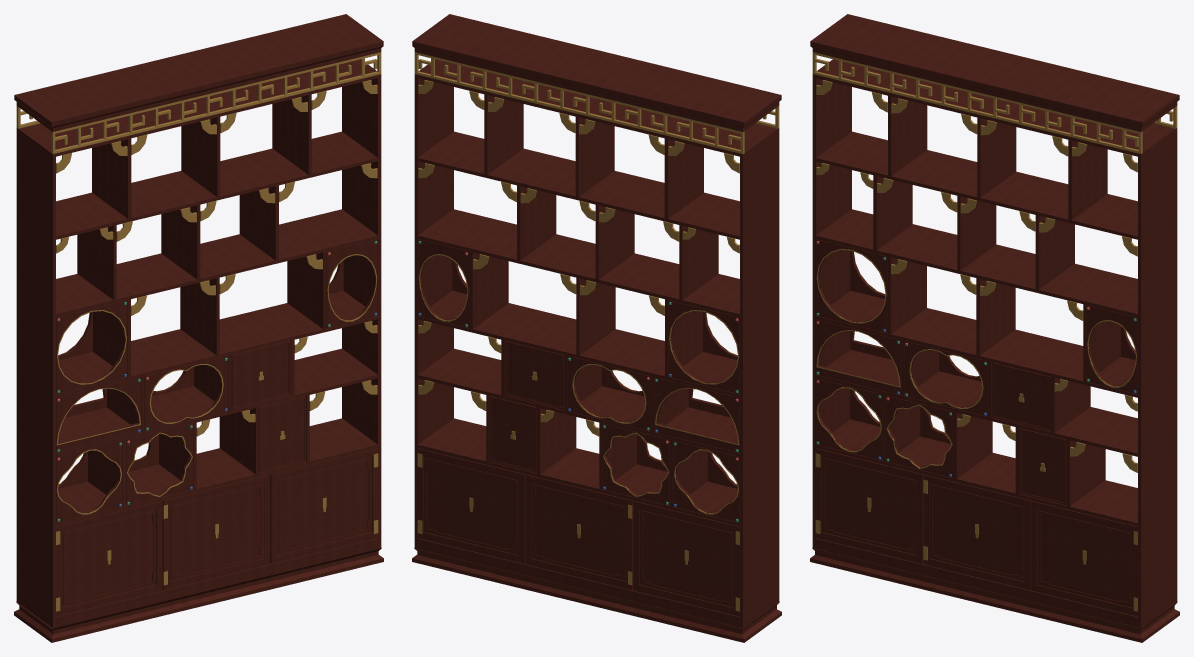
The model's file is shijinge-v1-d.glb.
3 renders of one model, left to right at view 1: azimuth 30°, elevation 25°; view 2: azimuth 150°, elevation 25°; view 3: azimuth 330°, elevation 25°, orthographic.
Parts seen in each view (by area): view 1: shijinge_d_wood, shijinge_d_side, shijinge_d_gold; view 2: shijinge_d_wood, shijinge_d_side, shijinge_d_gold; view 3: shijinge_d_wood, shijinge_d_side, shijinge_d_gold.
Part boxes in pixels (left/top/right/bottom): shijinge_d_wood: left=14, top=14, right=383, bottom=642; shijinge_d_side: left=18, top=132, right=51, bottom=620; shijinge_d_gold: left=16, top=52, right=381, bottom=611; shijinge_d_wood: left=412, top=14, right=781, bottom=642; shijinge_d_side: left=744, top=132, right=777, bottom=620; shijinge_d_gold: left=414, top=52, right=779, bottom=611; shijinge_d_wood: left=810, top=14, right=1179, bottom=642; shijinge_d_side: left=1142, top=132, right=1175, bottom=620; shijinge_d_gold: left=812, top=52, right=1177, bottom=611.
Bounding box in the file's own units: 2.12 × 3.18 × 0.4185.
Materials: 4 (1 with a texture image).
